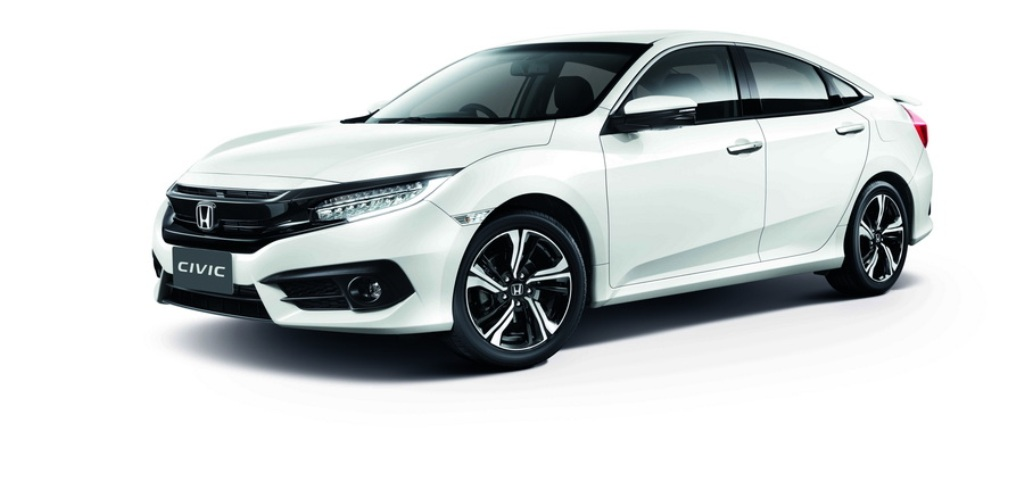sedan: (145, 25, 938, 369)
